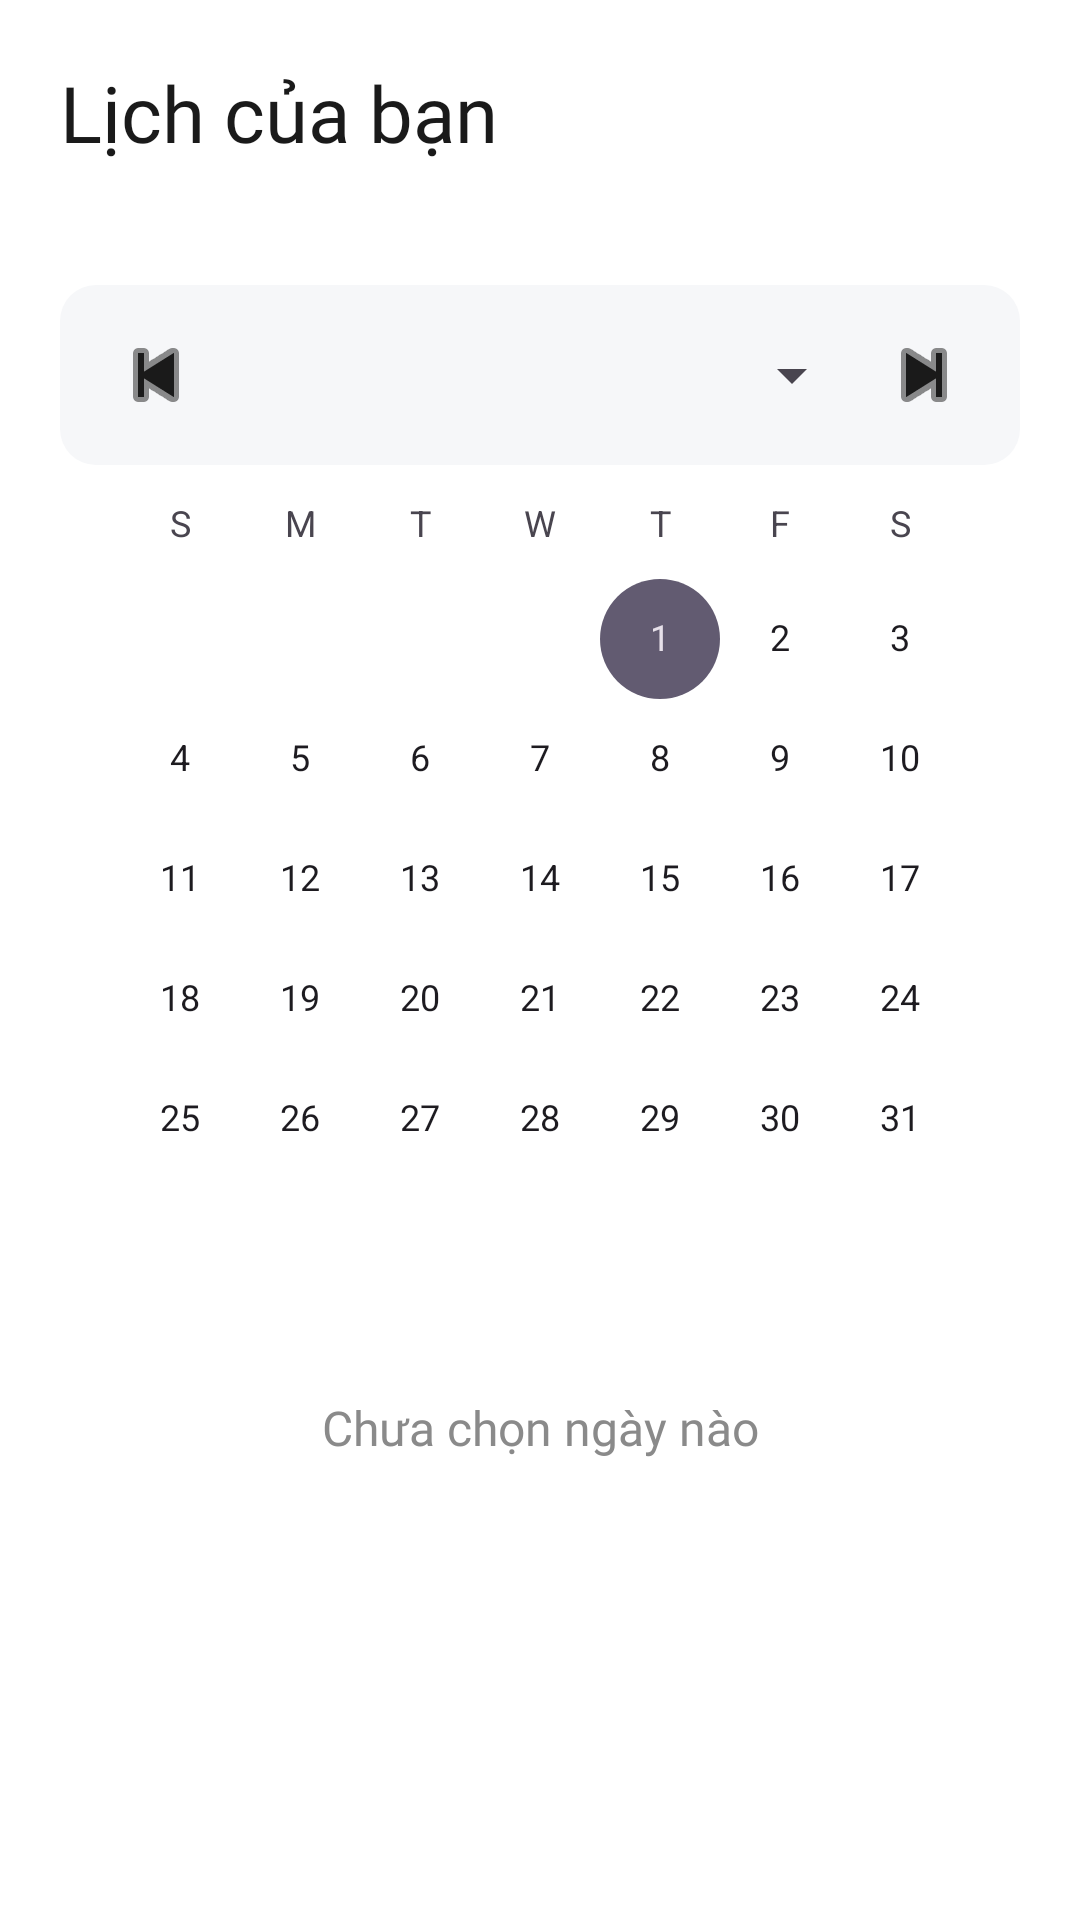

Where icons sit on this 1080px x 1920px app screen, as box(x1, y1, x2, y2):
next: box(901, 348, 947, 402)
previous: box(133, 348, 179, 402)
